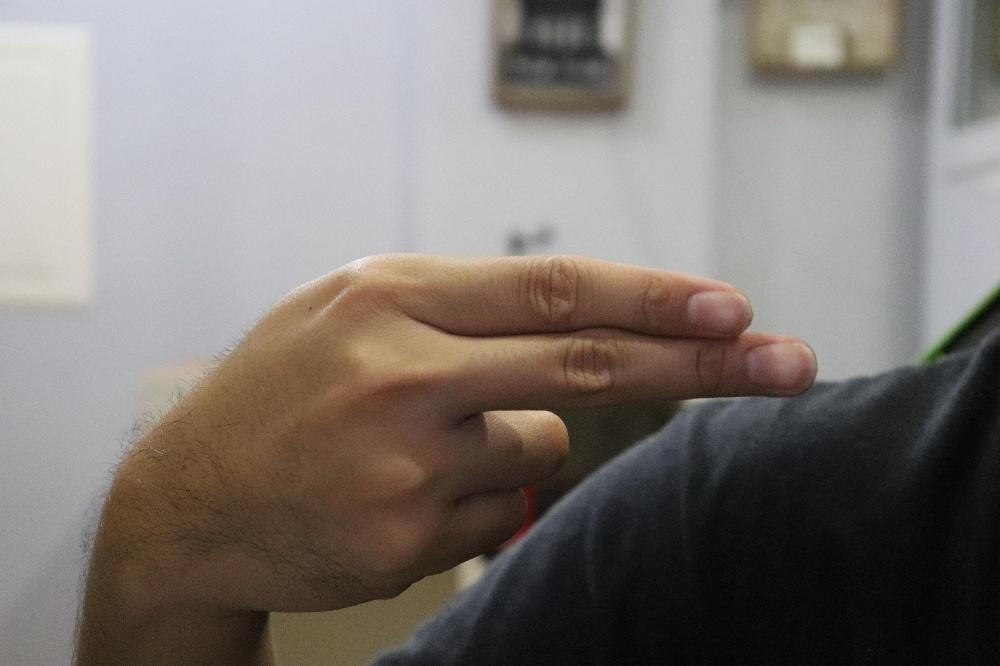h: (130, 252, 817, 613)
